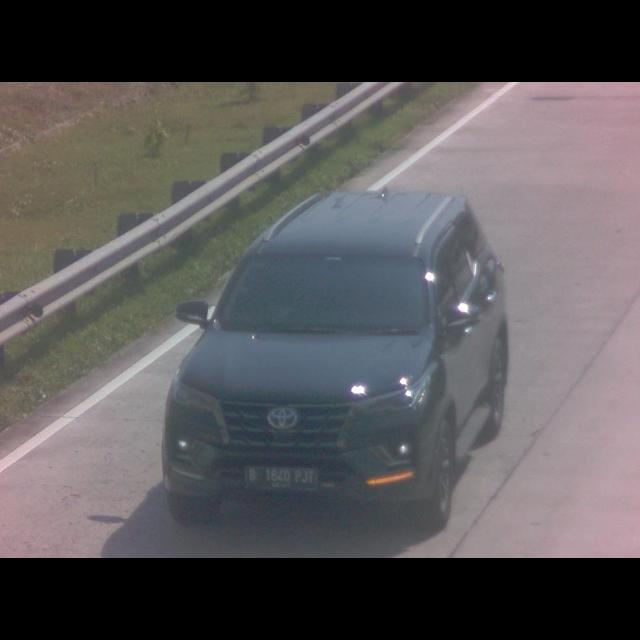plate: (246, 465, 318, 492)
